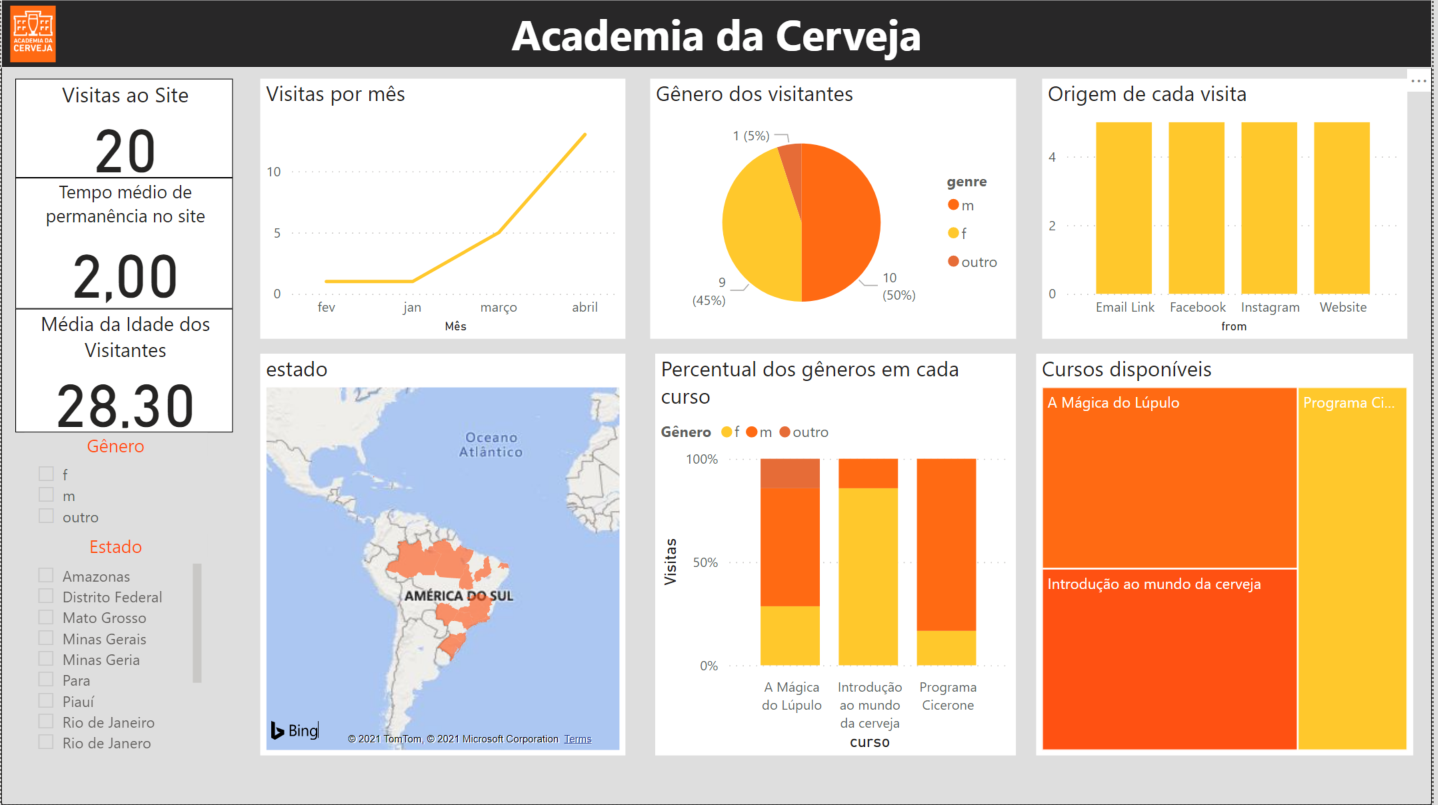

The dashboard page shown, as its layout file describes it:
{"tool":"powerbi","page":{"name":"Página 1","canvas":[1280,720],"ordinal":0},"visuals":[{"type":"textbox","box":[0,0,1279.9,60.8],"z":0},{"type":"image","box":[0,0,57.2,60.8],"z":1000},{"type":"card","title":"Visitas ao Site","fields":{"Values":["Count(Planilha1.id visita)"]},"box":[12.5,70.7,195,88.5],"z":2000},{"type":"lineChart","title":"Visitas por mês","fields":{"Y":["CountNonNull(Planilha1 (2).id visita)"],"Category":["Planilha1 (2).dmês visita"]},"box":[232,70.4,326.5,232.5],"z":3000},{"type":"pieChart","title":"Gênero dos visitantes","fields":{"Category":["Planilha1 (2).genre"],"Y":["CountNonNull(Planilha1 (2).id visita)"]},"box":[580.5,70.4,327.4,232.5],"z":5001},{"type":"columnChart","title":"Origem de cada visita","fields":{"Y":["CountNonNull(Planilha1 (2).id visita)"],"Category":["Planilha1 (2).from"]},"box":[931.1,70.4,326.5,232.5],"z":5003},{"type":"card","title":"Média da Idade dos Visitantes","fields":{"Values":["Avg(Planilha1 (2).age)"]},"box":[12.5,276.4,195,110.9],"z":5005},{"type":"treemap","title":"Cursos disponíveis","fields":{"Group":["Planilha1.curso"],"Values":["CountNonNull(Planilha1.id visita)"]},"box":[925.7,316.6,337.2,359.6],"z":5006},{"type":"hundredPercentStackedColumnChart","title":"Percentual dos gêneros em cada curso","fields":{"Y":["CountNonNull(Planilha1.id visita)"],"Category":["Planilha1.curso"],"Series":["Planilha1.genre"]},"box":[584.9,316.3,322.9,359.6],"z":5007},{"type":"slicer","title":"Gênero","fields":{"Values":["Planilha1 (2).genre"]},"box":[20.6,387.3,163.7,90.3],"z":5008},{"type":"slicer","title":"Estado","fields":{"Values":["Planilha1.estado"]},"box":[20.6,477.6,163.7,198.6],"z":5009},{"type":"card","title":"Tempo médio de permanência no site","fields":{"Values":["Planilha1 (2).Média de Contagem de tempo por tempo"]},"box":[12.5,159.2,195,117.2],"z":5010},{"type":"filledMap","fields":{"Category":["Planilha1.estado"]},"box":[231.7,316.6,326.5,359.6],"z":5014}]}

Visuals, with their boxes in screenshot pixels (x1, y1, x2, y2), scaled from the page's 1280x720 canvas onto the 1438x805 screenshot:
textbox: {"x1": 0, "y1": 0, "x2": 1437, "y2": 68}
image: {"x1": 0, "y1": 0, "x2": 64, "y2": 68}
"Visitas ao Site" card: {"x1": 14, "y1": 79, "x2": 233, "y2": 178}
"Visitas por mês" lineChart: {"x1": 261, "y1": 79, "x2": 627, "y2": 339}
"Gênero dos visitantes" pieChart: {"x1": 652, "y1": 79, "x2": 1020, "y2": 339}
"Origem de cada visita" columnChart: {"x1": 1046, "y1": 79, "x2": 1413, "y2": 339}
"Média da Idade dos Visitantes" card: {"x1": 14, "y1": 309, "x2": 233, "y2": 433}
"Cursos disponíveis" treemap: {"x1": 1040, "y1": 354, "x2": 1419, "y2": 756}
"Percentual dos gêneros em cada curso" hundredPercentStackedColumnChart: {"x1": 657, "y1": 354, "x2": 1020, "y2": 756}
"Gênero" slicer: {"x1": 23, "y1": 433, "x2": 207, "y2": 534}
"Estado" slicer: {"x1": 23, "y1": 534, "x2": 207, "y2": 756}
"Tempo médio de permanência no site" card: {"x1": 14, "y1": 178, "x2": 233, "y2": 309}
filledMap - Planilha1.estado: {"x1": 260, "y1": 354, "x2": 627, "y2": 756}
